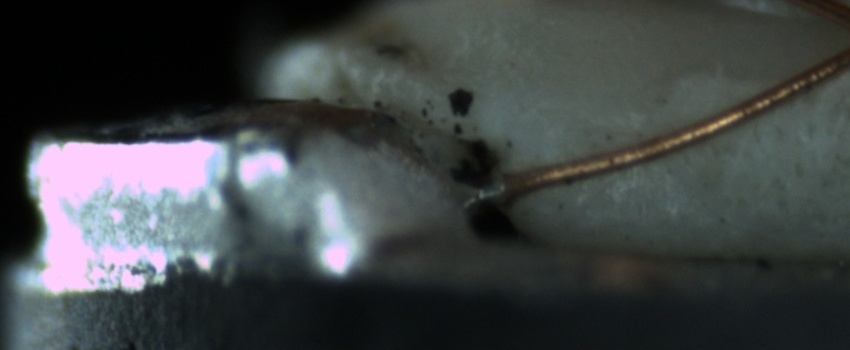TS: (469, 176, 503, 206)
